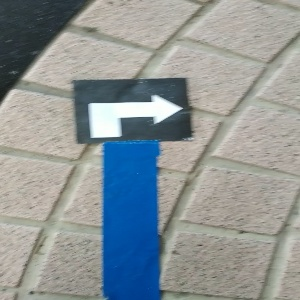right: (74, 78, 191, 141)
